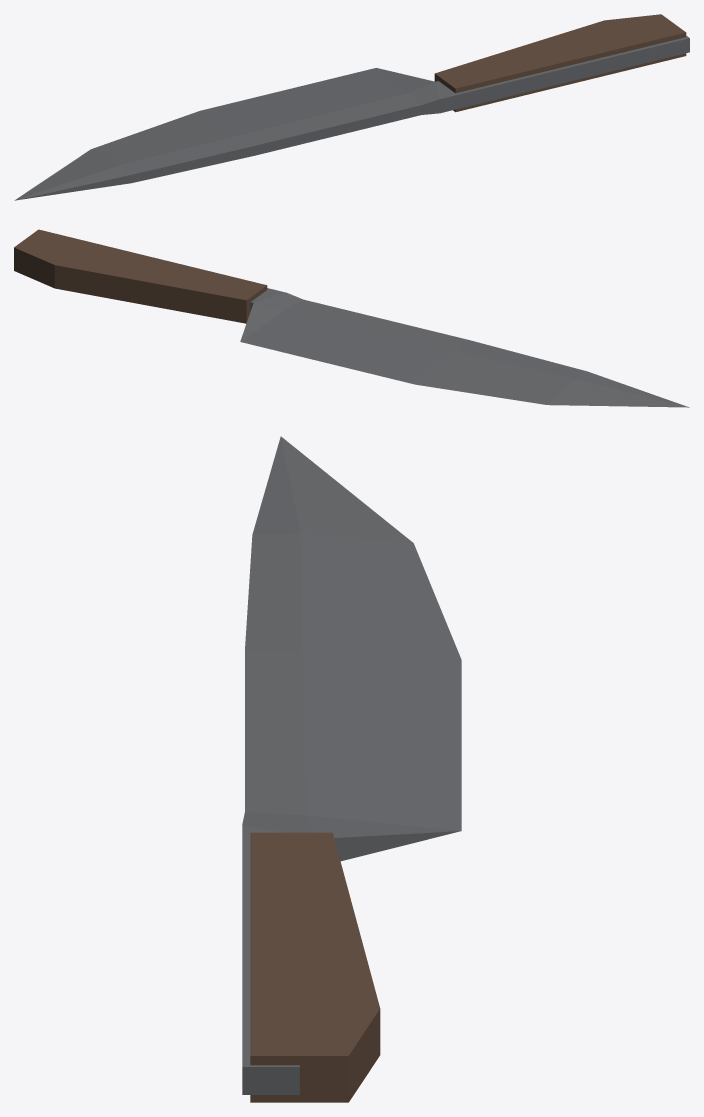
File: chefKnife02.fbx
3 views of the same model, one above another, from view 1: azimuth 30°, elevation 25°; view 2: azimuth 150°, elevation 25°; view 3: azimuth 270°, elevation 25° (orthographic). The views are drawn at different scales.
Parts seen in each view (by area): view 1: chefKnife02; view 2: chefKnife02; view 3: chefKnife02.
Boxes of the visible parts, x1,y1,x2,y2 form: chefKnife02: [14, 14, 689, 200]; chefKnife02: [14, 229, 689, 407]; chefKnife02: [242, 436, 461, 1102].
Bounding box in the file's own units: 58.39 × 1.98 × 8.4.
Materials: 1 (1 with a texture image).
